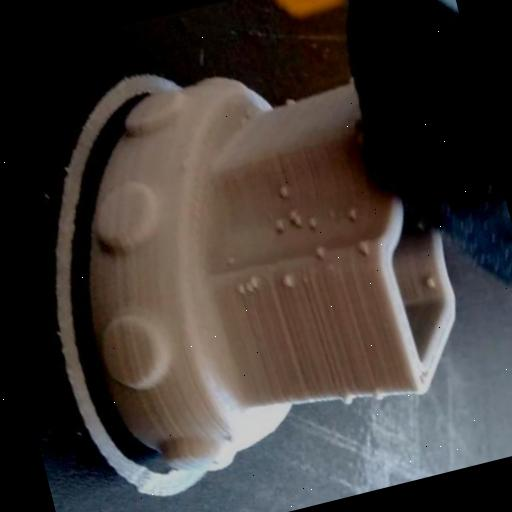blobs: (300, 206, 324, 234), (270, 179, 295, 203), (354, 236, 376, 262), (245, 268, 268, 291), (284, 204, 306, 228), (341, 198, 361, 224), (369, 382, 391, 404), (268, 212, 288, 236), (311, 240, 332, 262), (282, 93, 304, 114), (278, 270, 298, 292), (340, 388, 358, 408), (234, 278, 252, 298), (420, 274, 436, 290)
